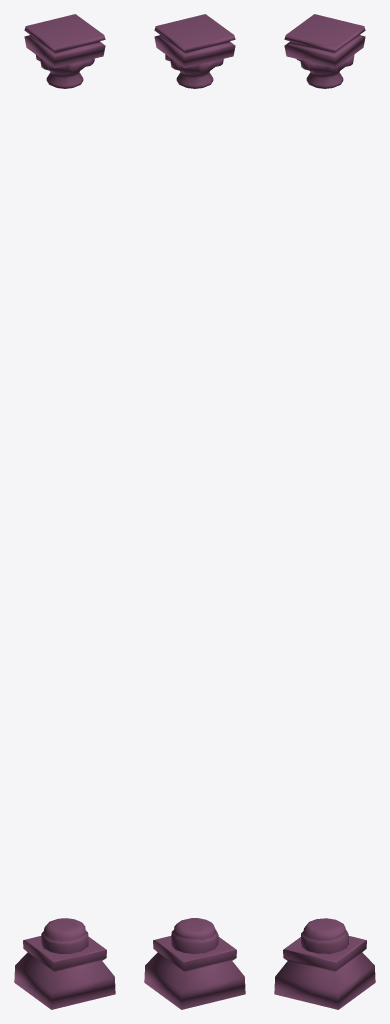
File: Pillar_01_x3_Base_Lod0.fbx
The picture shows the model from 3 angles, left to right: view 1: azimuth 30°, elevation 25°; view 2: azimuth 210°, elevation 25°; view 3: azimuth 330°, elevation 25°; orthographic projection.
Visible parts, largest first — view 1: Pillar_01_x3_Base_Lod0; view 2: Pillar_01_x3_Base_Lod0; view 3: Pillar_01_x3_Base_Lod0.
Part boxes in pixels (left/top/right/bottom): Pillar_01_x3_Base_Lod0: left=14, top=14, right=115, bottom=1009; Pillar_01_x3_Base_Lod0: left=144, top=14, right=245, bottom=1009; Pillar_01_x3_Base_Lod0: left=274, top=14, right=375, bottom=1009.
Size of the model in its own units: 60.67 by 866 by 60.95.
